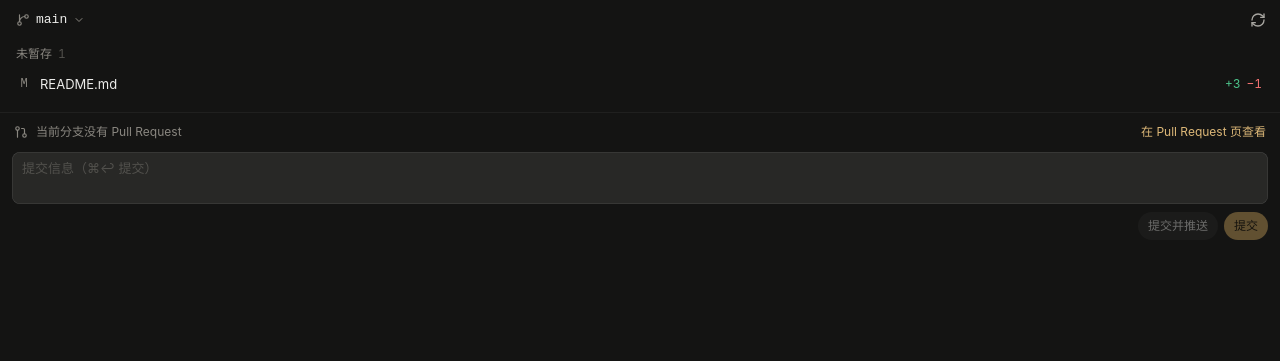
Test: GitReviewPane (UI-S06) › 2 · draws 已暂存 and 未暂存 only when they have files
Expected: the heading with class "group-label" reads "未暂存", [16,46,52,61]
Click the button named "刷新 Git 状态".
click(1258, 20)  # box [1244,6,1272,34]
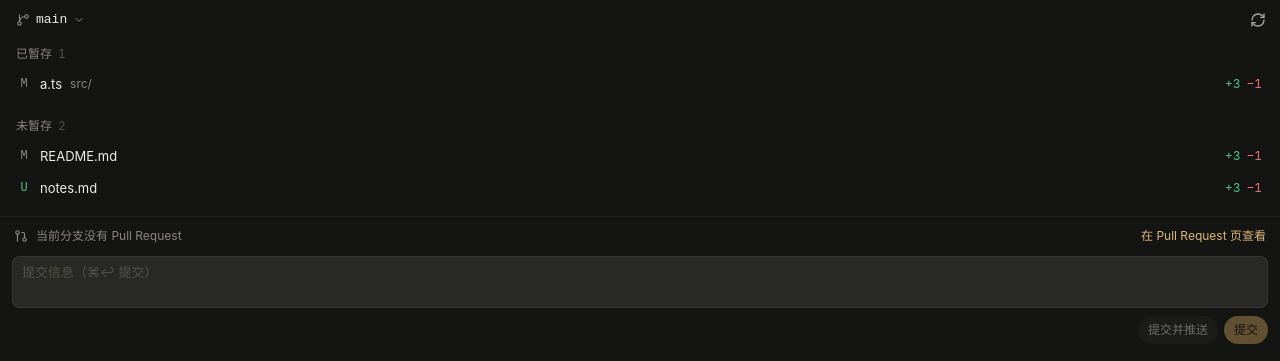
Expected: the text with class "group-count" reads "2", [58,118,66,133]
Click the button named "刷新 Git 状态".
click(1258, 20)  # box [1244,6,1272,34]
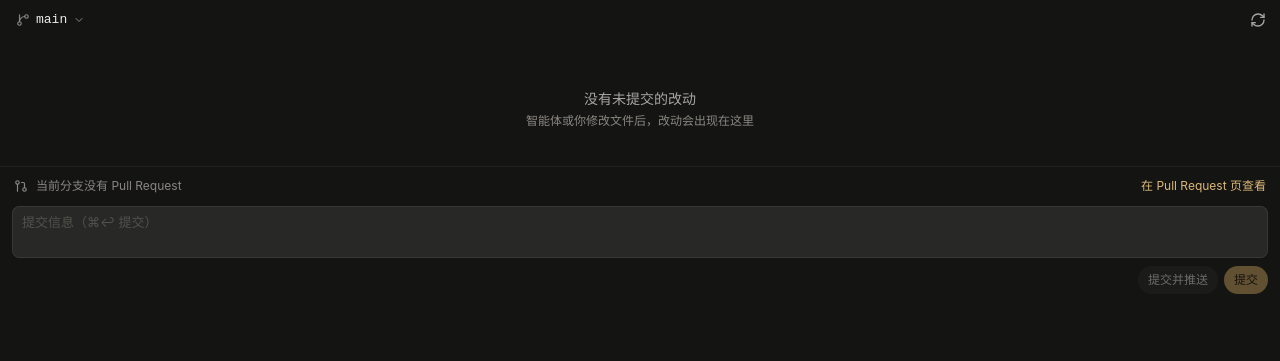
Expected: the text "没有未提交的改动" is shown, [584,90,696,107]
